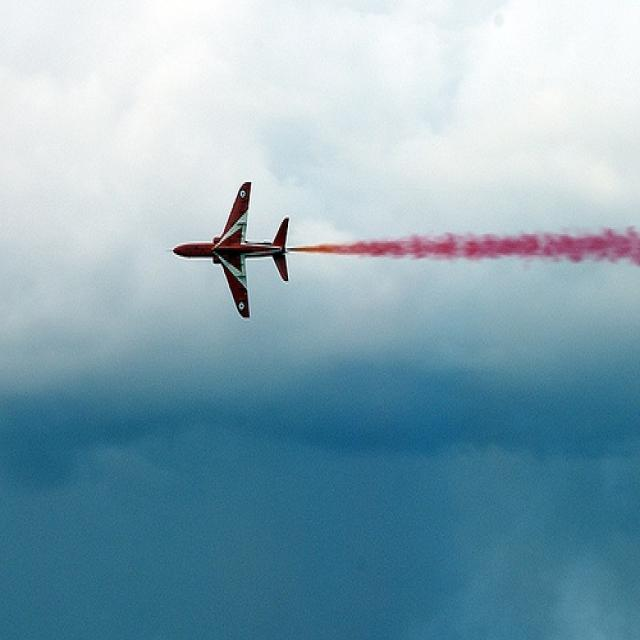aeroplane: (164, 182, 290, 319)
